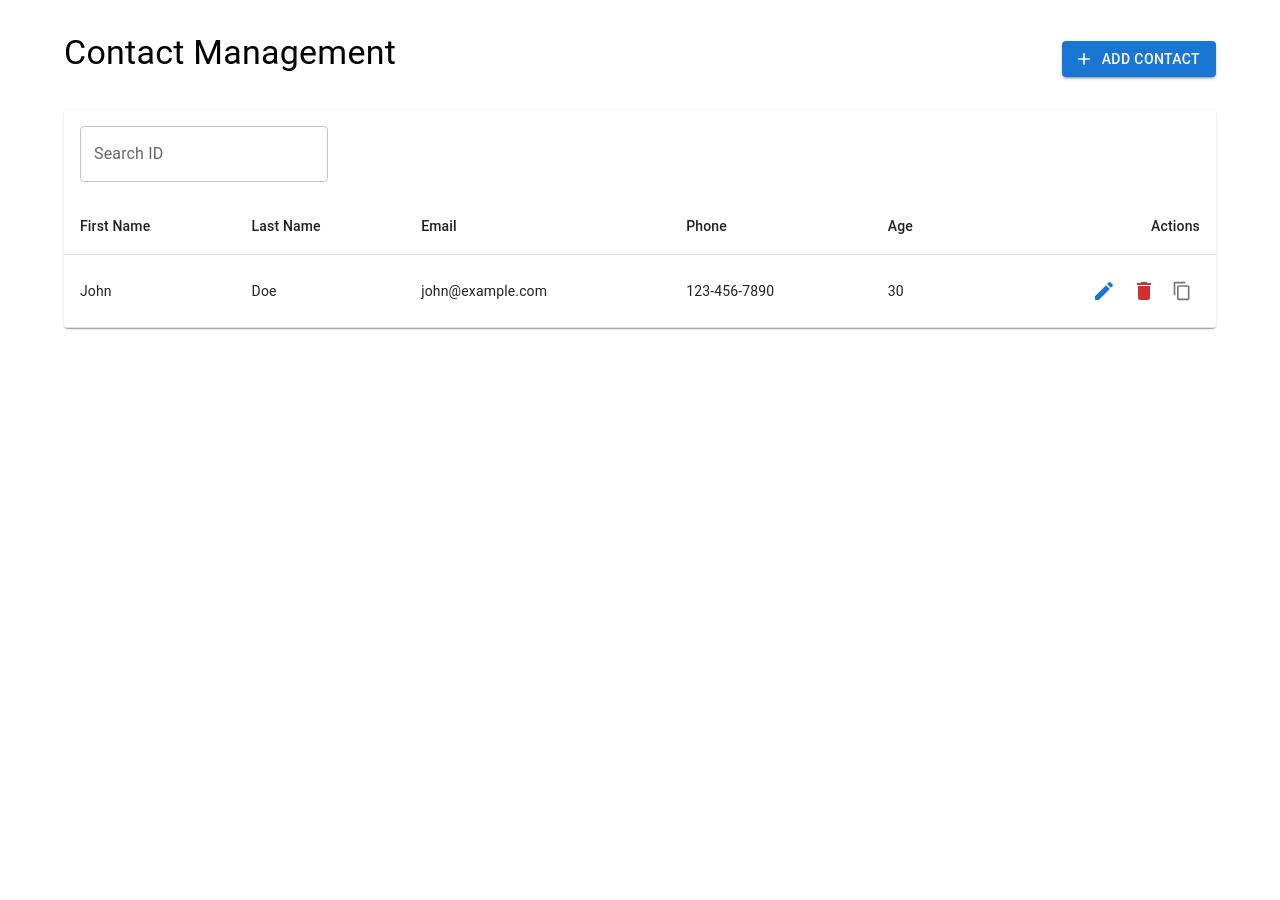
Test: App Component › should show ID copied to clipboard in Snackbar copy click
Expected: the text "John" is shown, [64,254,236,327]
Click the button with test id "table_copy_btn" at {"x": 1182, "y": 291}, box [1164,273,1200,309]
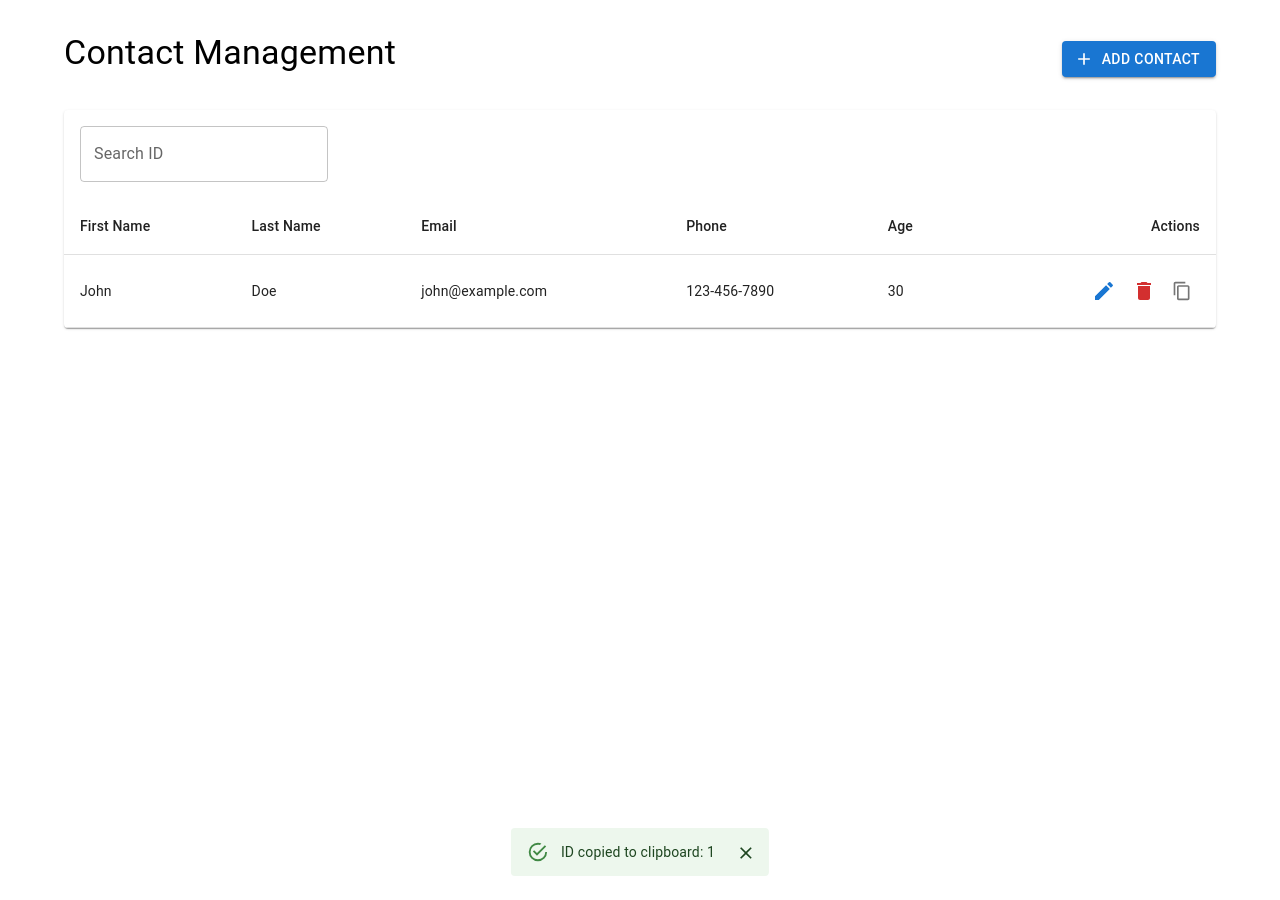
Result: the text "ID copied to clipboard: 1" is shown at [561,844,715,860]
